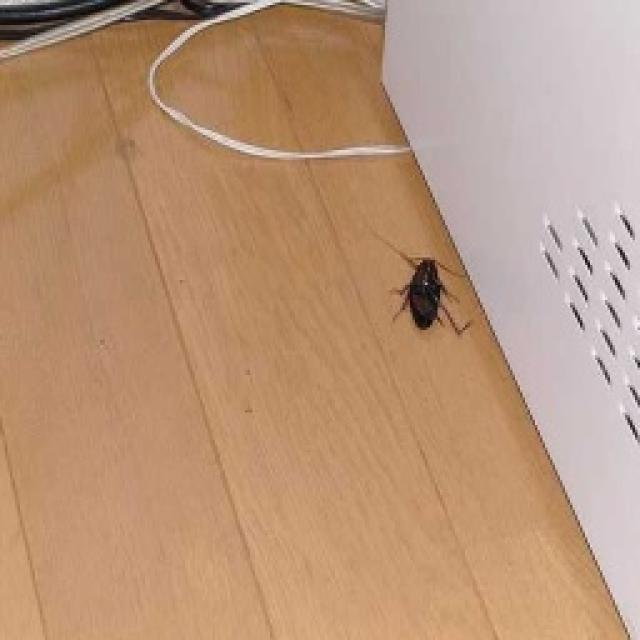cockroach: (370, 229, 476, 343)
